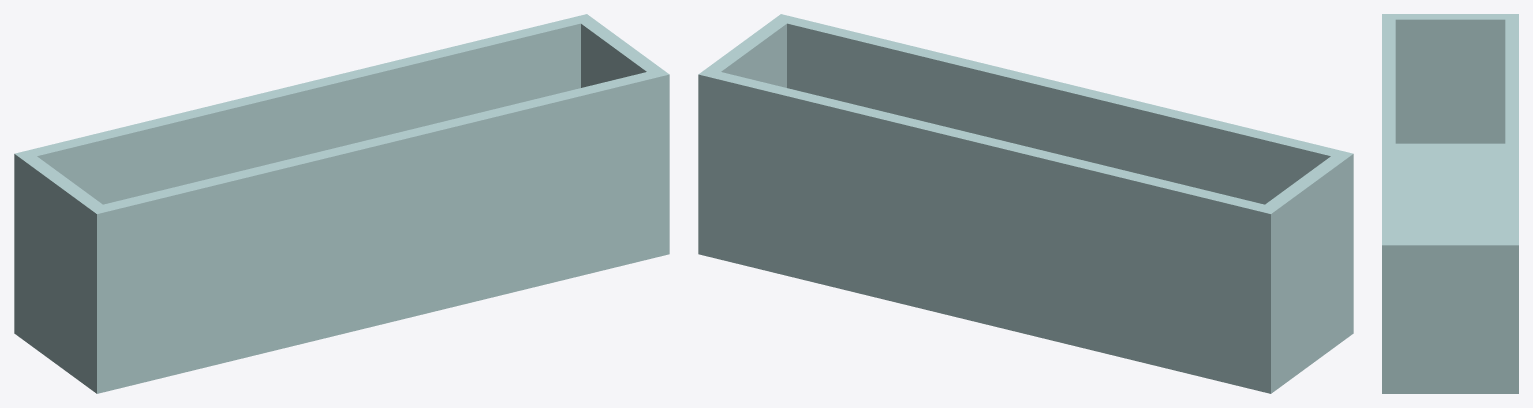
Rendered from Flurzimmer.fbx.
3 views of the same model, side by side, from view 1: azimuth 30°, elevation 25°; view 2: azimuth 150°, elevation 25°; view 3: azimuth 270°, elevation 25° (orthographic). The views are drawn at different scales.
Visible parts, largest first — view 1: Flurzimmerwand1, Flurzimmerwand3, Flurzimmerboden, Flurzimmerwand4, Flurzimmerwand2; view 2: Flurzimmerwand3, Flurzimmerwand1, Flurzimmerboden, Flurzimmerwand4, Flurzimmerwand2; view 3: Flurzimmerwand2, Flurzimmerwand4, Flurzimmerboden, Flurzimmerwand1, Flurzimmerwand3.
Part boxes in pixels (x1,y1,x2,y2): Flurzimmerwand1: (97, 72, 669, 363); Flurzimmerwand3: (15, 14, 586, 204); Flurzimmerboden: (14, 224, 669, 393); Flurzimmerwand4: (14, 153, 102, 363); Flurzimmerwand2: (581, 14, 668, 87); Flurzimmerwand3: (698, 72, 1270, 363); Flurzimmerwand1: (781, 14, 1352, 204); Flurzimmerboden: (698, 224, 1353, 393); Flurzimmerwand4: (1265, 153, 1353, 363); Flurzimmerwand2: (699, 14, 786, 87); Flurzimmerwand2: (1382, 239, 1518, 369); Flurzimmerwand4: (1383, 14, 1517, 143); Flurzimmerboden: (1382, 143, 1518, 393); Flurzimmerwand1: (1382, 14, 1395, 244); Flurzimmerwand3: (1505, 14, 1518, 244).
Bounding box in the file's own units: 4 × 1.2 × 1.
